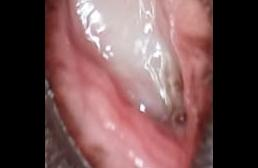eye_membrane: (46, 0, 211, 168)
